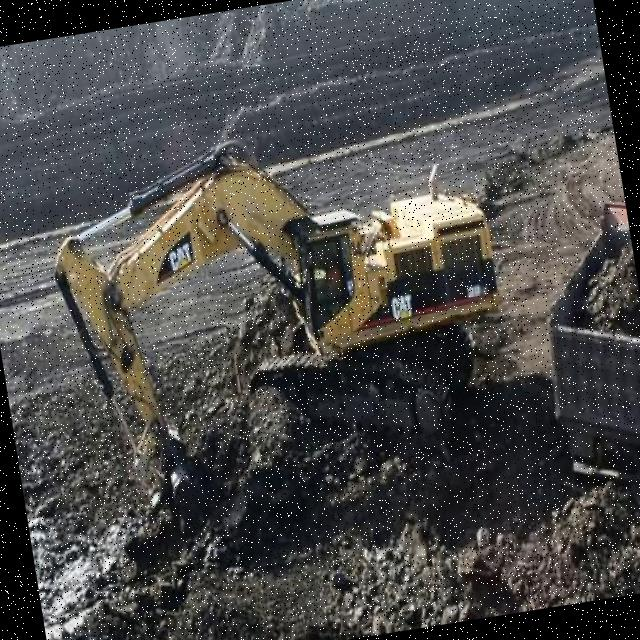Dump Truck: (523, 203, 640, 494)
Excavator: (26, 95, 534, 558)
